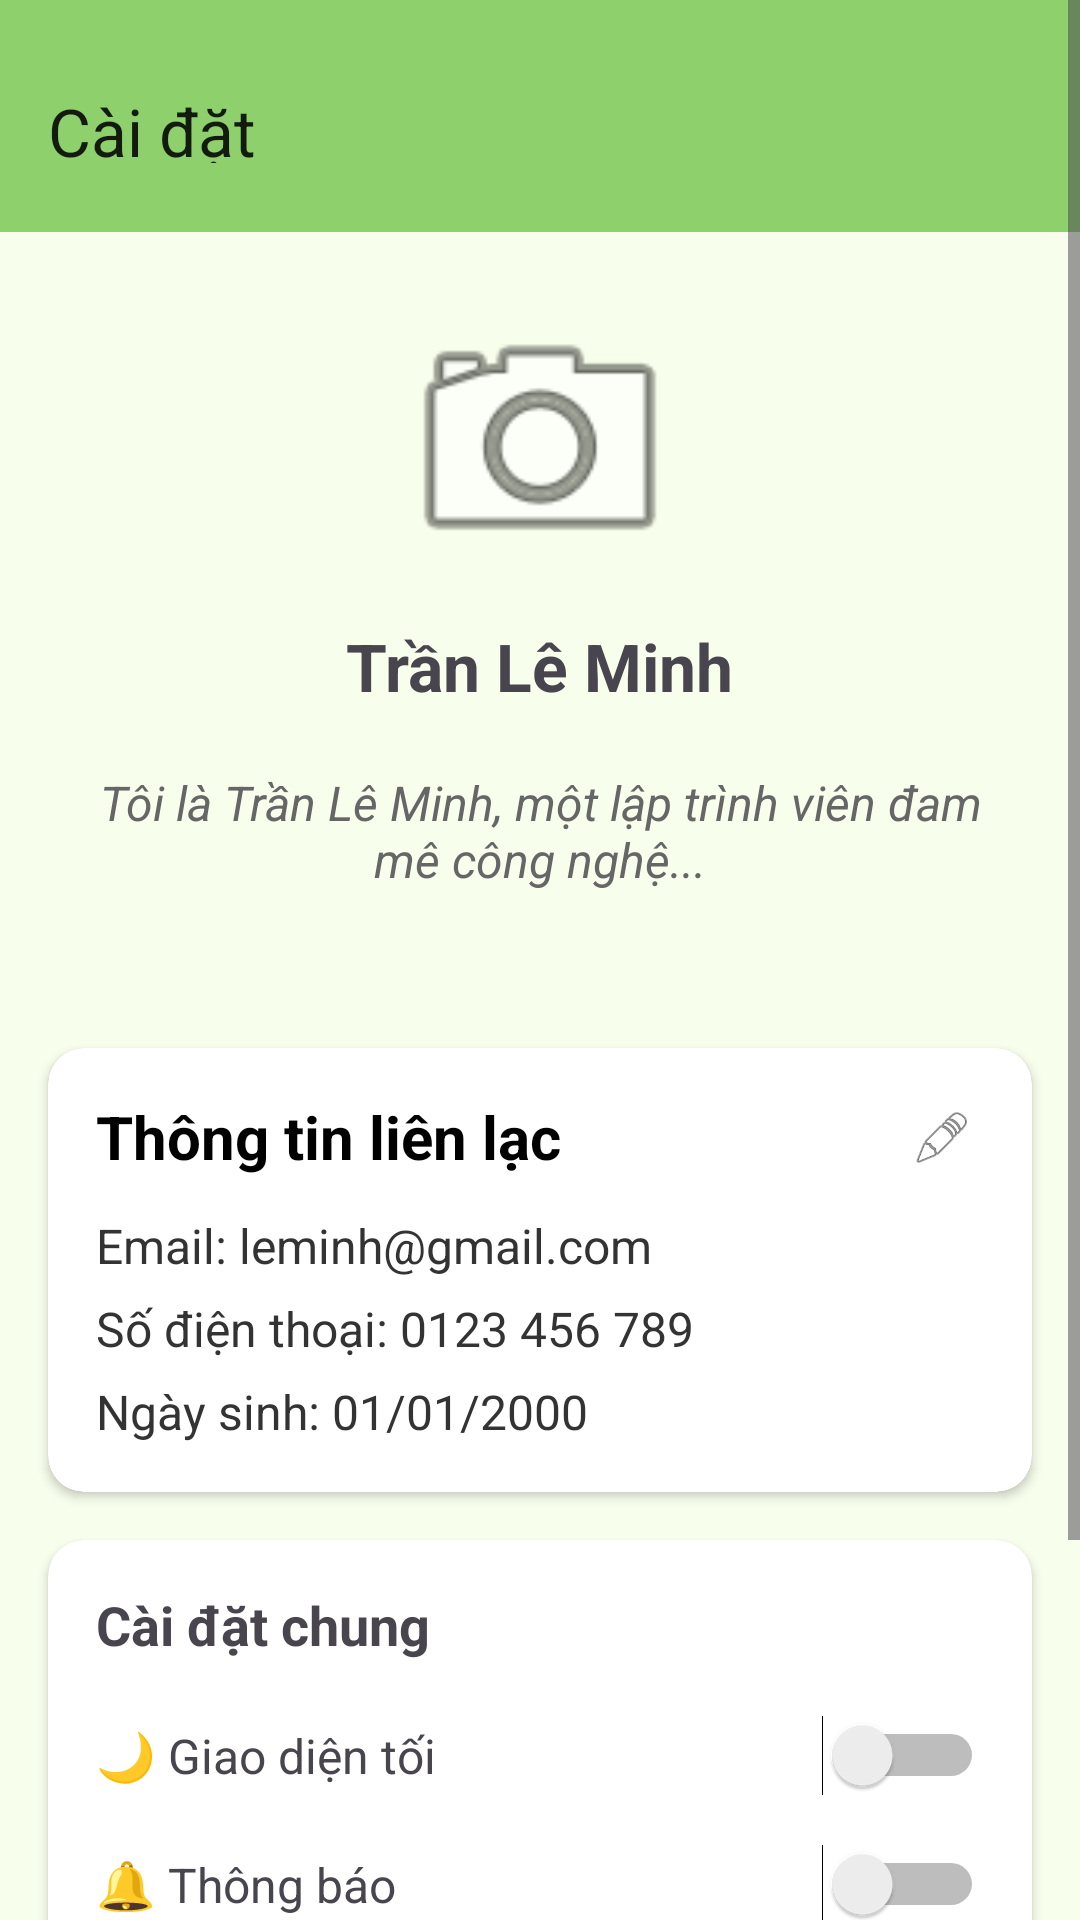

Locate icon controls on the screen. Image size 1080x1920, boxes as (x1, y1, x2, y2).
Sửa thông tin: (916, 1112, 967, 1163)
